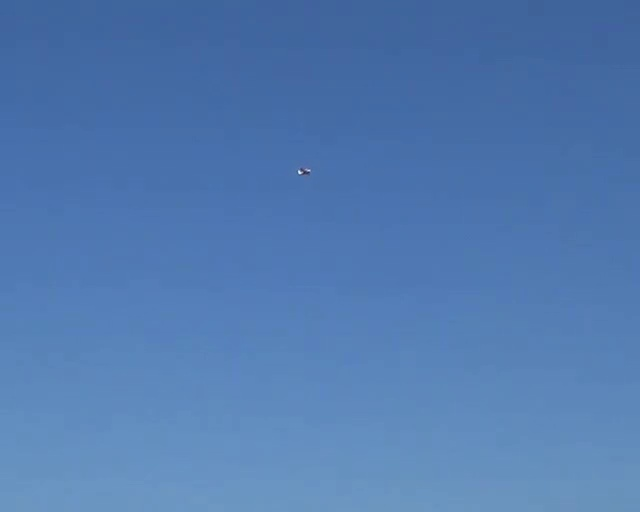AIRPLANE: (297, 166, 312, 176)
